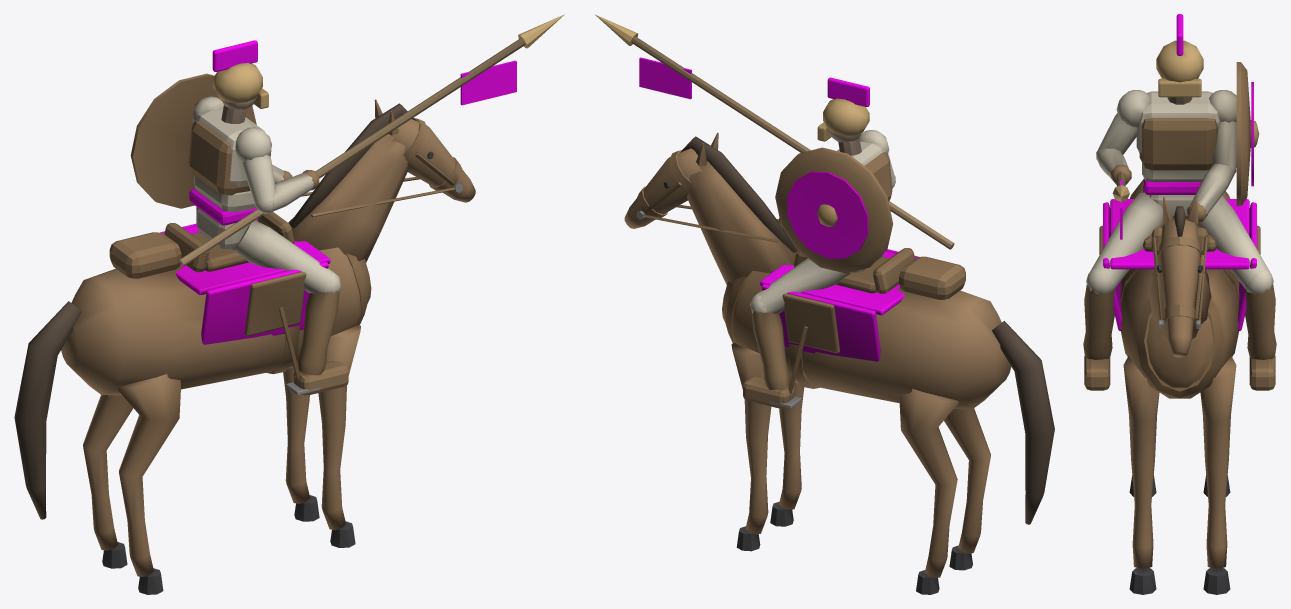
File: horseman.glb
The picture shows the model from 3 angles, left to right: view 1: azimuth 30°, elevation 25°; view 2: azimuth 150°, elevation 25°; view 3: azimuth 270°, elevation 25°; orthographic projection. The views are drawn at different scales.
Visible parts, largest first — view 1: Body; view 2: Body; view 3: Body.
Boxes of the visible parts, x1=… form: Body: x1=14, y1=14, x2=564, y2=594; Body: x1=595, y1=14, x2=1054, y2=594; Body: x1=1083, y1=14, x2=1276, y2=594.
Size of the model in its own units: 2.85 by 2.64 by 0.8898.
1 material, 1 textured.
